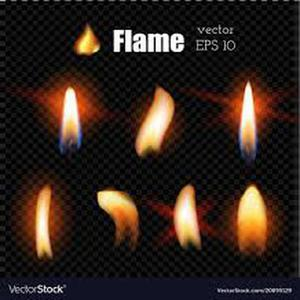fire: (92, 189, 145, 254), (133, 82, 176, 152), (233, 182, 271, 251), (231, 77, 262, 158), (33, 181, 60, 259), (173, 182, 201, 251), (58, 86, 85, 146), (76, 23, 103, 56)
